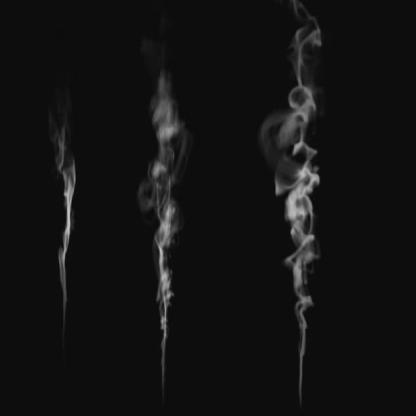smoke: (271, 13, 321, 389), (141, 76, 182, 374), (50, 124, 77, 320)
